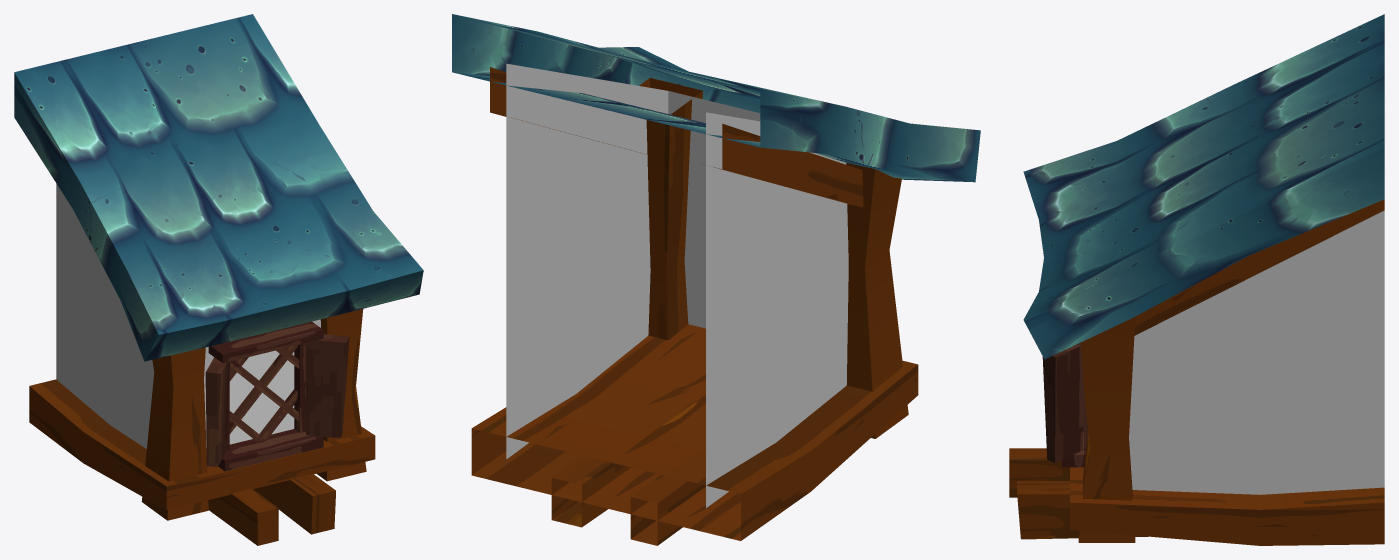
Rendered from SM_BLD_window_v02_01.fbx.
3 views of the same model, side by side, from view 1: azimuth 30°, elevation 25°; view 2: azimuth 150°, elevation 25°; view 3: azimuth 270°, elevation 25° (orthographic). The views are drawn at different scales.
Parts seen in each view (by area): view 1: SM_BLD_window_v02_01; view 2: SM_BLD_window_v02_01; view 3: SM_BLD_window_v02_01.
Boxes of the visible parts, x1=… form: SM_BLD_window_v02_01: x1=14, y1=14, x2=423, y2=545; SM_BLD_window_v02_01: x1=452, y1=14, x2=980, y2=545; SM_BLD_window_v02_01: x1=1009, y1=14, x2=1384, y2=545.
Bounding box in the file's own units: 215 × 283 × 222.
